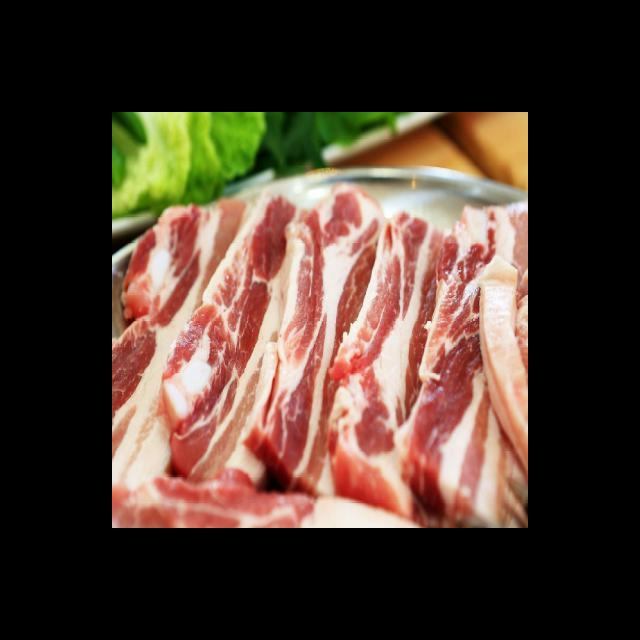pork: (138, 201, 528, 527)
